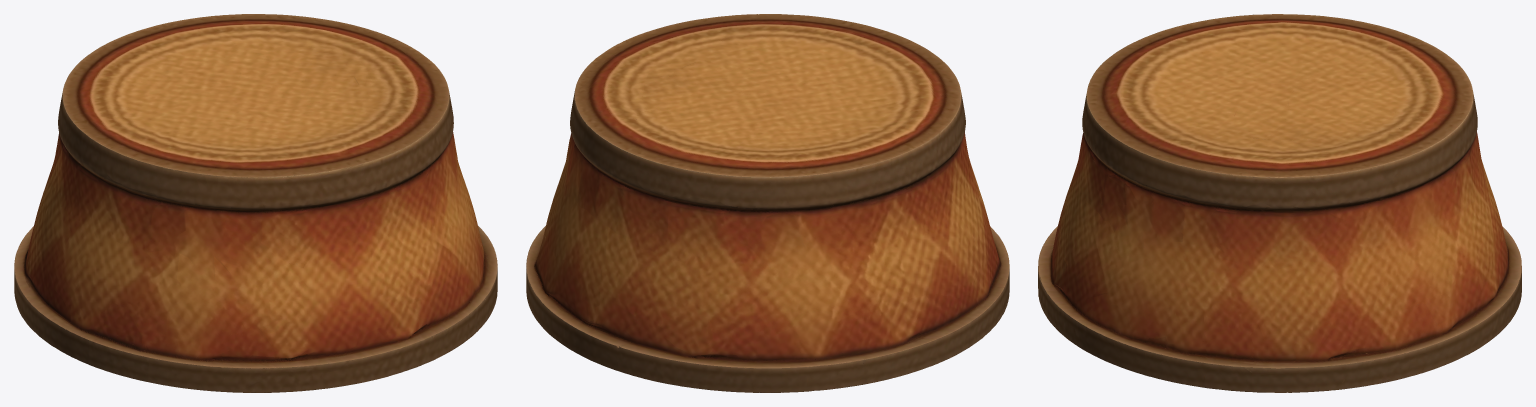
The model's file is tambor.glb.
3 renders of one model, left to right at view 1: azimuth 30°, elevation 25°; view 2: azimuth 150°, elevation 25°; view 3: azimuth 270°, elevation 25°, orthographic.
Bounding box in the file's own units: 1.9 × 0.8591 × 1.9.
Materials: 1 (1 with a texture image).
